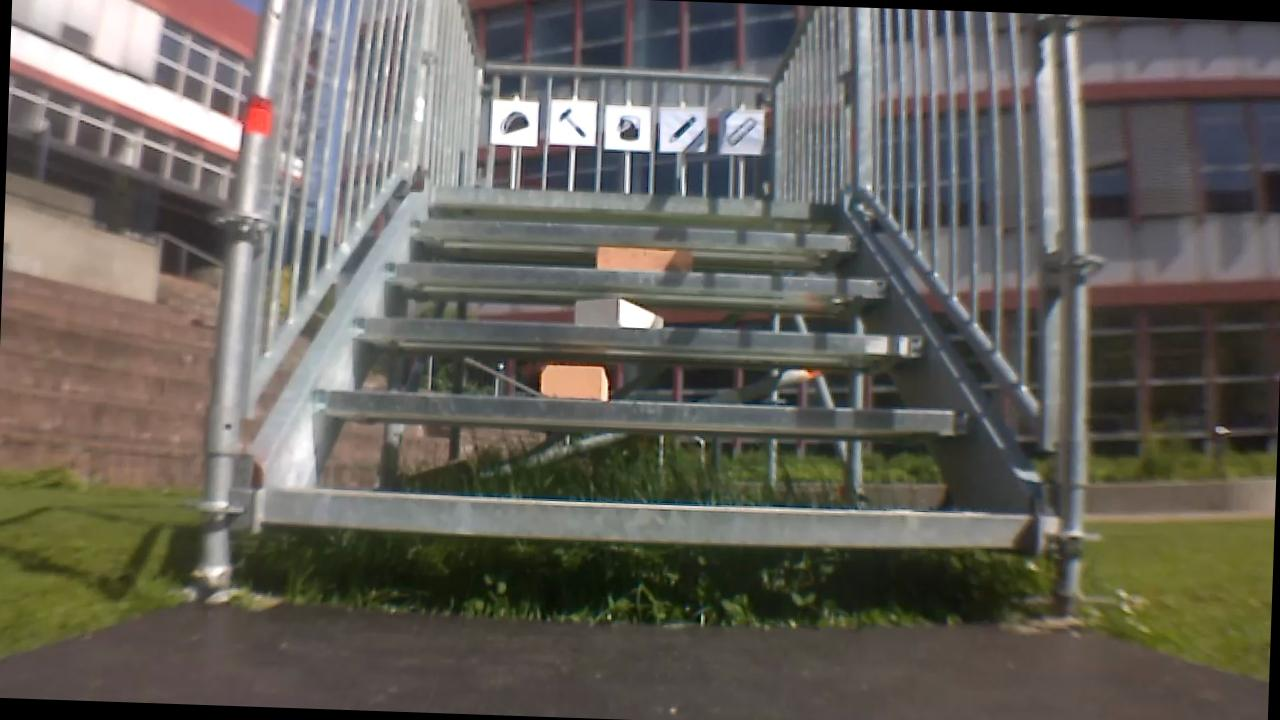brick: (571, 290, 667, 331), (535, 362, 608, 403), (597, 242, 690, 273)
bucket: (608, 111, 642, 148)
edge: (251, 485, 1039, 550), (310, 383, 972, 439), (344, 313, 934, 366), (376, 261, 892, 303), (403, 221, 857, 255), (424, 188, 826, 221)
hammer: (555, 106, 588, 136)
pencil: (663, 108, 696, 145)
ruler: (728, 116, 756, 146)
steps: (238, 179, 1054, 547)
taco: (499, 104, 532, 134)
